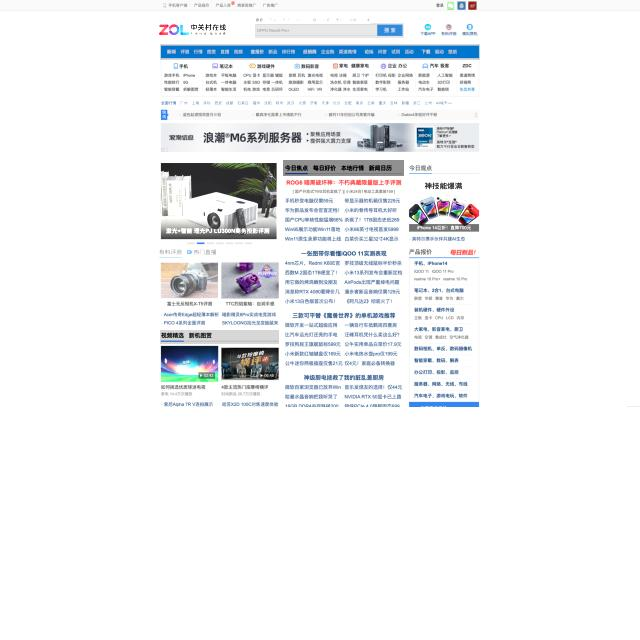CheckedTextView: (255, 23, 406, 38)
ImageView: (162, 123, 478, 152), (410, 174, 478, 232)
carousel: (468, 1, 477, 10), (457, 1, 466, 10), (446, 2, 456, 9)
copy: (162, 162, 280, 240), (161, 261, 219, 299), (222, 262, 278, 298)
date picker: (158, 20, 232, 39)
decoration: (160, 44, 480, 60), (159, 97, 456, 107), (283, 160, 404, 176), (162, 0, 282, 10), (254, 16, 371, 24)
icon: (160, 246, 280, 261), (160, 330, 279, 344)
